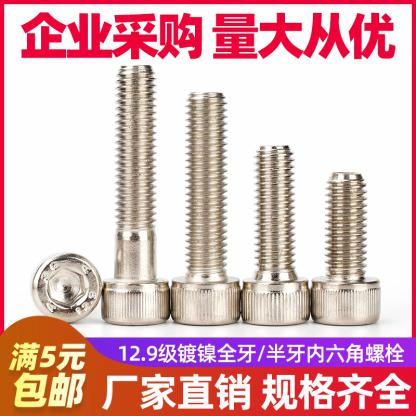FOD: (100, 64, 172, 326), (170, 89, 242, 330), (239, 145, 310, 326), (310, 171, 385, 328), (29, 248, 103, 324)
